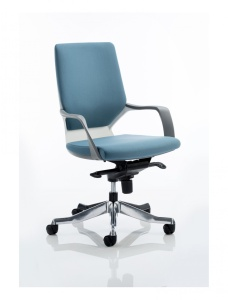chair: (46, 42, 181, 248)
